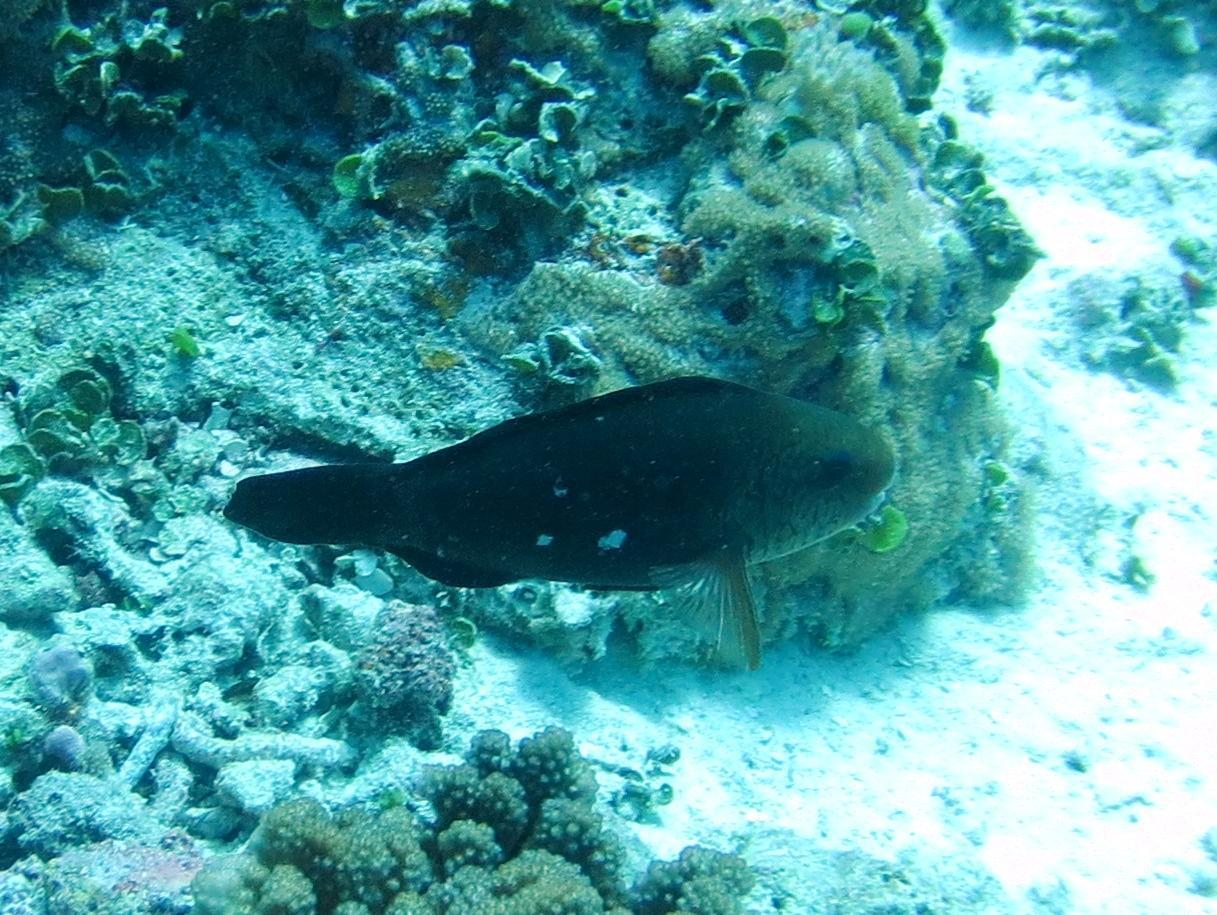Chlorurus sordidus: (158, 358, 938, 688)
